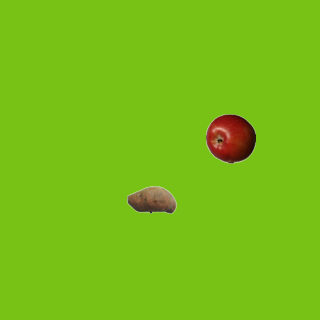Apple Braeburn: (205, 113, 255, 163)
Potato Sweet: (126, 174, 176, 224)
